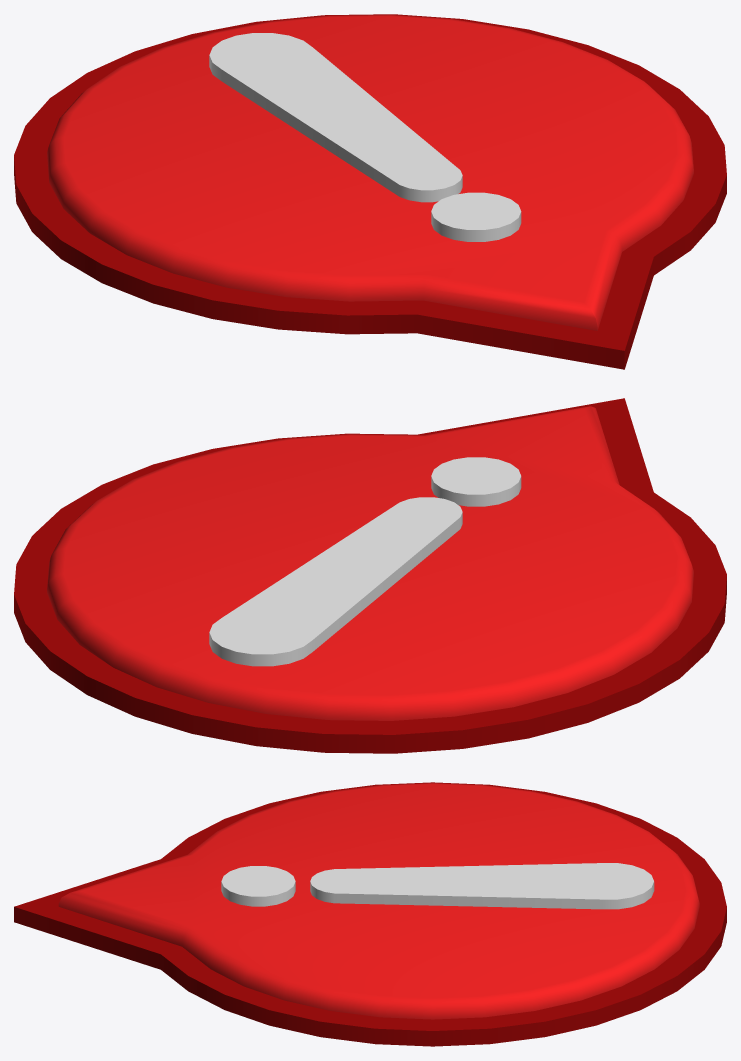
File: hnya2.fbx
The picture shows the model from 3 angles, top to bottom: view 1: azimuth 30°, elevation 25°; view 2: azimuth 150°, elevation 25°; view 3: azimuth 270°, elevation 25°; orthographic projection. The views are drawn at different scales.
Visible parts, largest first — view 1: Circle; view 2: Circle; view 3: Circle.
Boxes of the visible parts, x1,y1,x2,y2 form: Circle: [14, 14, 726, 369]; Circle: [14, 398, 726, 753]; Circle: [14, 782, 726, 1046].
Bounding box in the file's own units: 0.4737 × 0.059 × 0.574.
